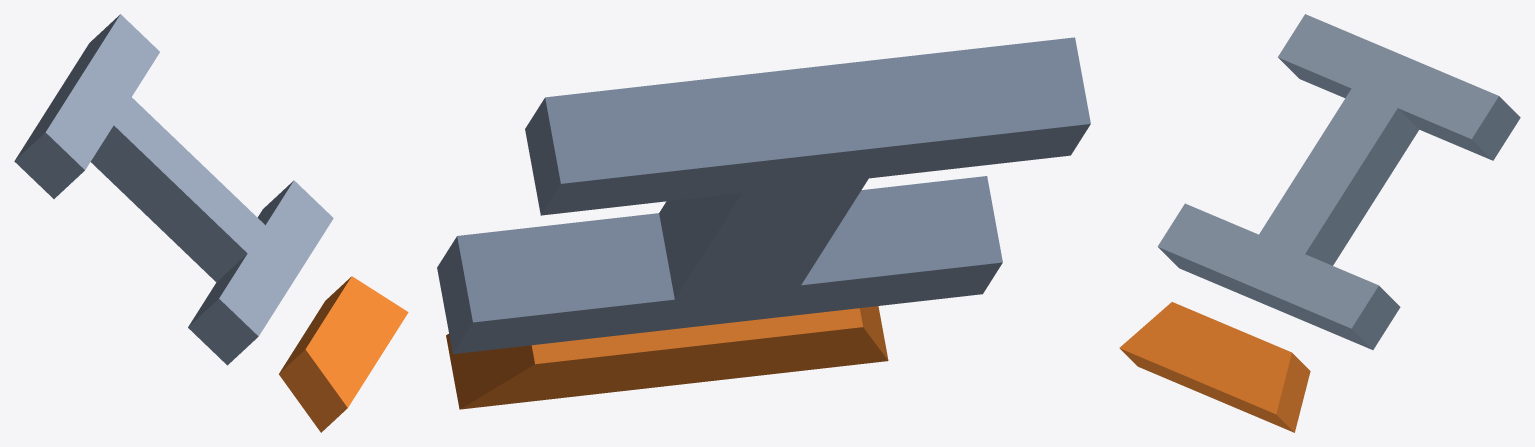
File: steel_works.obj
The picture shows the model from 3 angles, left to right: view 1: azimuth 30°, elevation 25°; view 2: azimuth 150°, elevation 25°; view 3: azimuth 270°, elevation 25°; orthographic projection. The views are drawn at different scales.
Bounding box in the file's own units: 1.23 × 0.8996 × 1.23.
